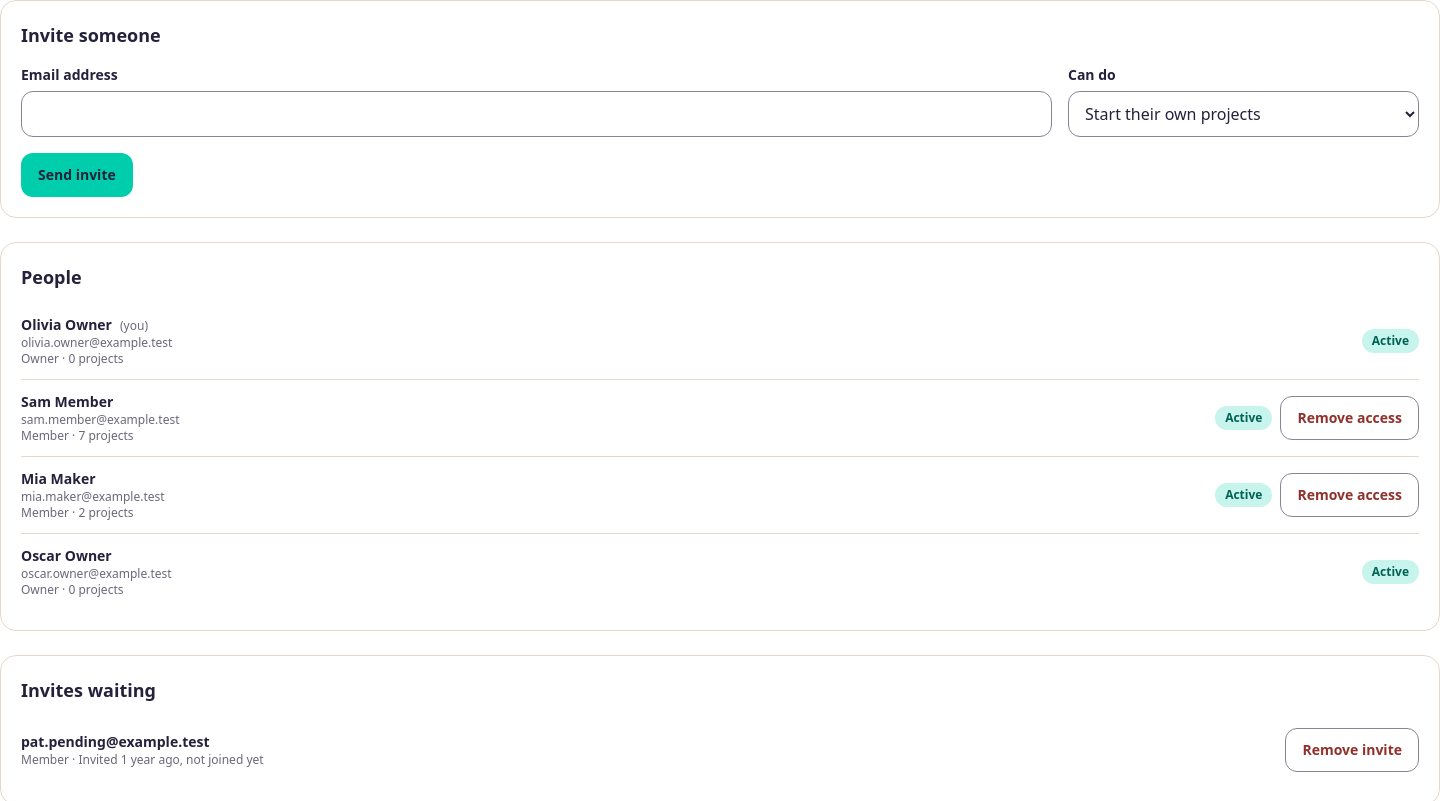
Test case: TeamManager: people › shows the reason when the server refuses
The width and height of the screenshot is (1440, 801).
Click the button with aria-label "Remove access for Mia Maker". click: (1350, 495)
box: [1280,473,1419,517]
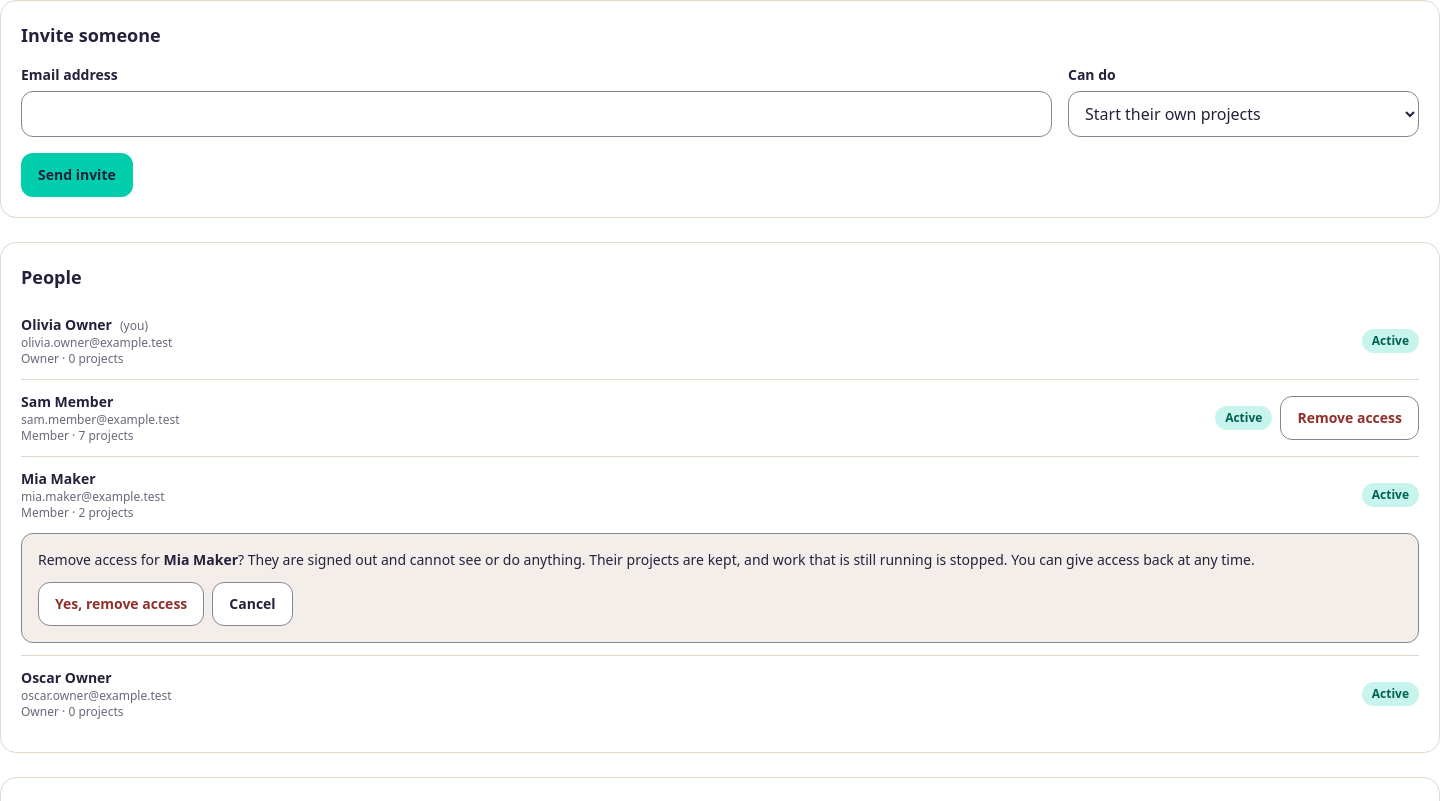
Click the button with aria-label "Yes, remove access for Mia Maker". click: (121, 604)
box: [38,582,204,626]
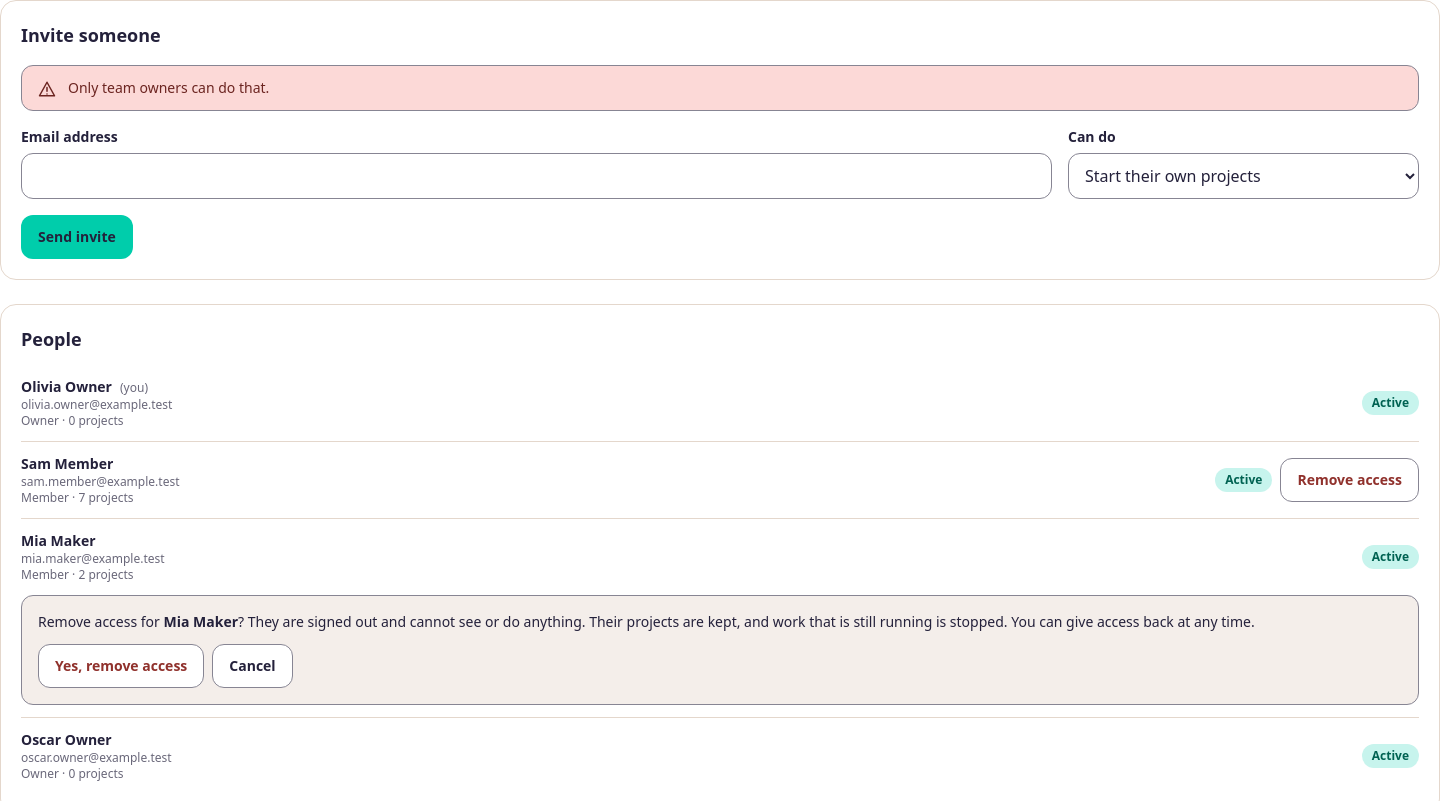
Expected: the element named "Confirm removing Mia Maker" is shown, [21,595,1419,705]
Expected: the message reads "Only team owners can do that.", [68,78,269,97]
